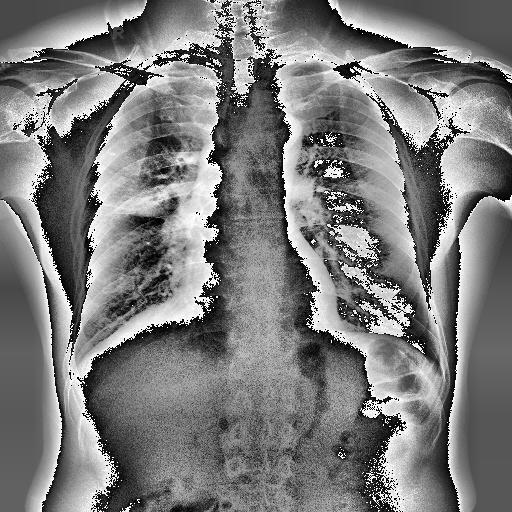2- Calcification: (108, 150, 117, 158)
4- Consolidation: (104, 190, 166, 218), (116, 189, 174, 217)
6- Infiltration: (116, 192, 169, 222)
9- Other lesion: (70, 300, 202, 362)
